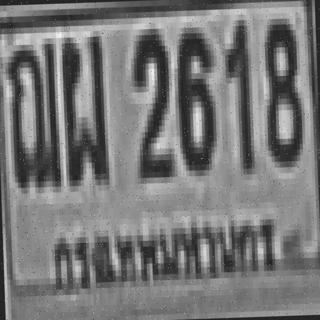A12: (4, 38, 58, 188)
A28: (58, 31, 106, 180)
N01: (221, 14, 252, 169)
N02: (131, 26, 170, 175)
N06: (172, 24, 215, 168)
N08: (260, 12, 300, 162)
P04: (47, 206, 283, 293)
